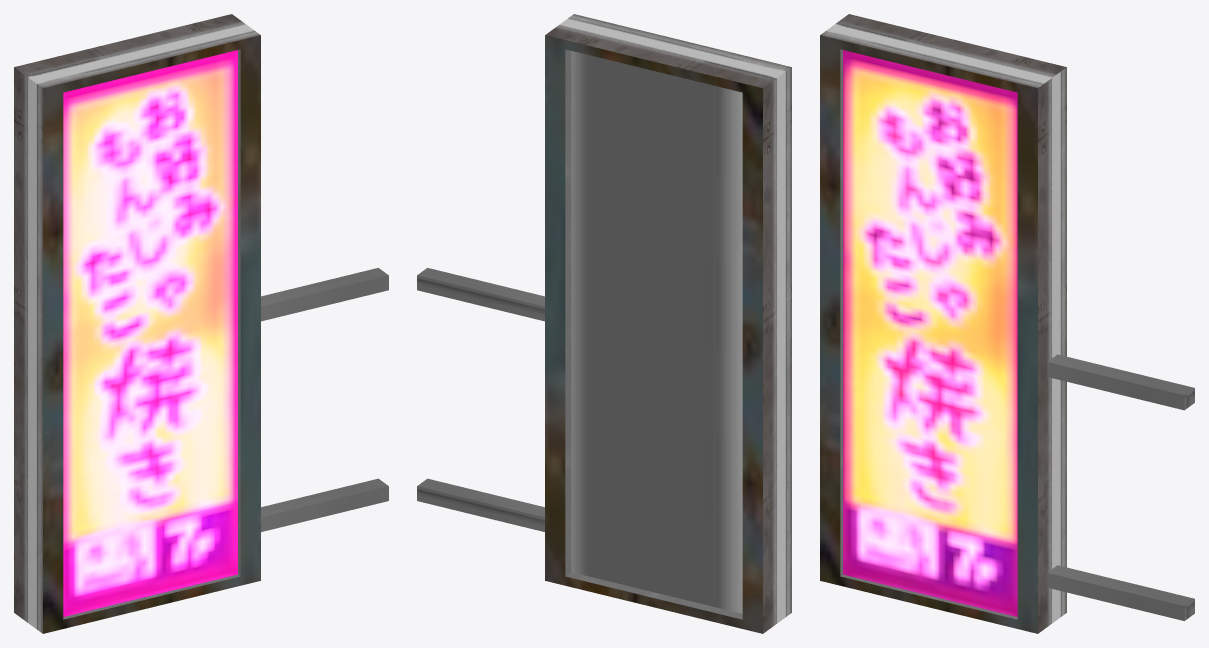
File: japanese-sign-16.glb
3 views of the same model, side by side, from view 1: azimuth 30°, elevation 25°; view 2: azimuth 150°, elevation 25°; view 3: azimuth 330°, elevation 25° (orthographic).
Visible parts, largest first — view 1: Japanese_Sign_16; view 2: Japanese_Sign_16; view 3: Japanese_Sign_16.
Part boxes in pixels (x1,y1,x2,y2): Japanese_Sign_16: (14, 14, 388, 633); Japanese_Sign_16: (417, 14, 791, 633); Japanese_Sign_16: (820, 14, 1194, 633).
Size of the model in its own units: 0.8982 by 1.32 by 0.1265.
Materials: 2 (1 with a texture image).
